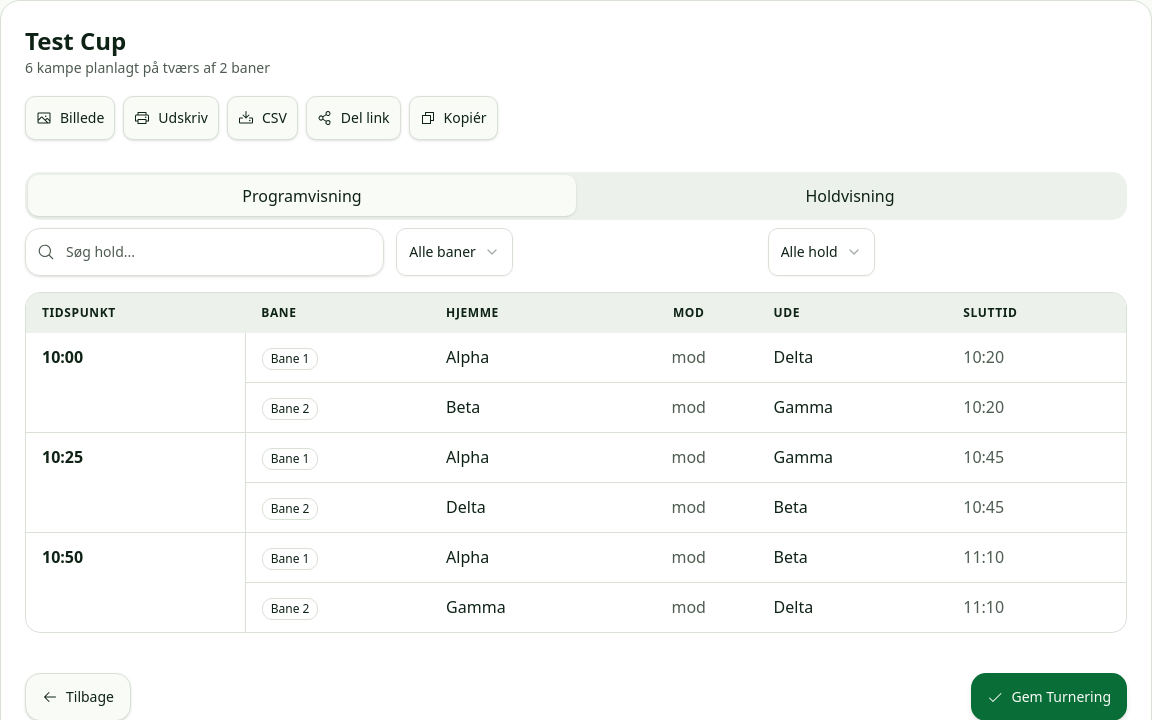
Step4Schedule › shows an empty state when the search matches no team
The width and height of the screenshot is (1152, 720).
Step 1. Type "Findes Ikke" into the field with placeholder "Søg hold..." → [205, 252], box [25,228,384,276]
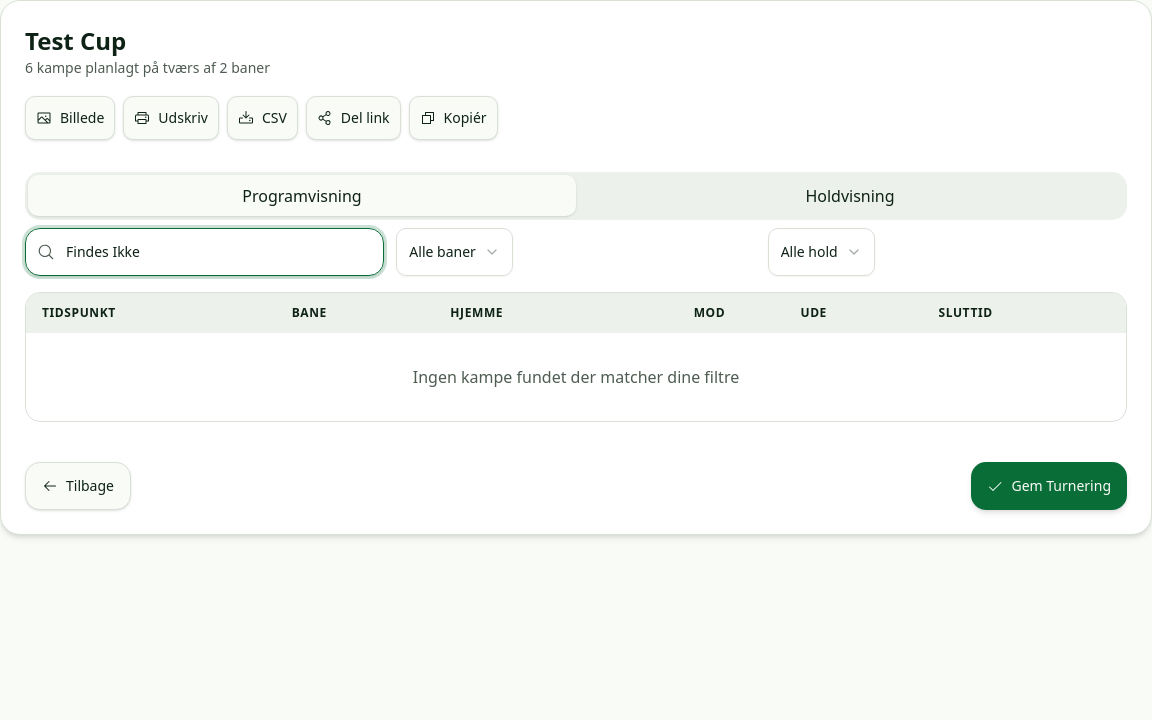
Now the text "Ingen kampe fundet der matcher dine filtre" is shown, box [413,366,739,388]
Now the text "Alpha" is gone
